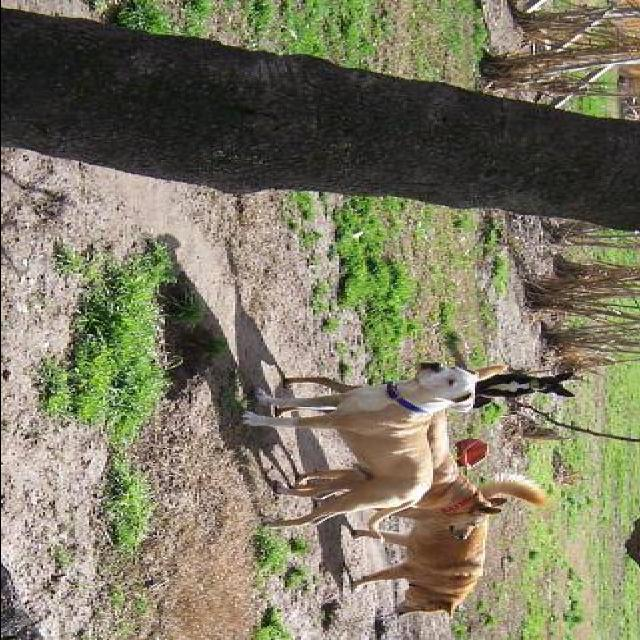dog: (242, 358, 488, 540)
